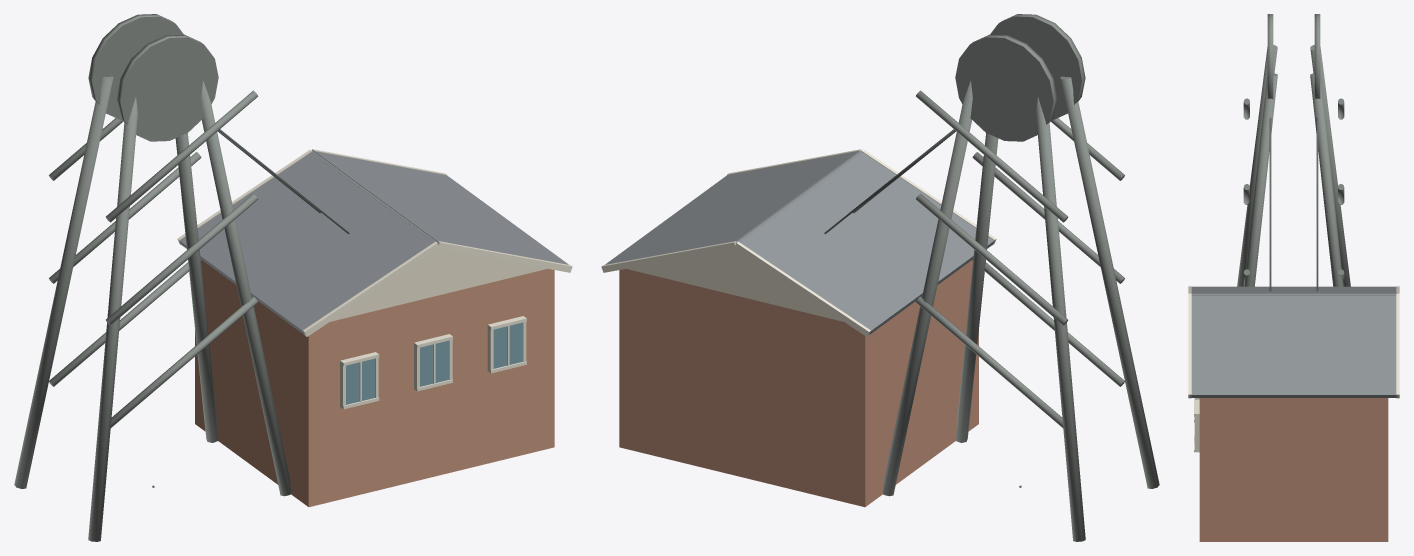
File: rhine-mine_lod0.glb
The picture shows the model from 3 angles, left to right: view 1: azimuth 30°, elevation 25°; view 2: azimuth 150°, elevation 25°; view 3: azimuth 270°, elevation 25°; orthographic projection. The views are drawn at different scales.
Visible parts, largest first — view 1: RF_WindingHouse, RF_Roof.001, RF_Roof, RF_WindingWheel.001, RF_HeadframeLeg.001, RF_HeadframeLeg.002, RF_Gable, RF_HeadframeLeg.003, RF_HeadframeLeg, RF_WindingWheel, RF_HeadframeBrace.005, RF_HeadframeBrace.003 (+8 smaller); view 2: RF_WindingHouse, RF_Roof.001, RF_Roof, RF_WindingWheel, RF_HeadframeLeg.002, RF_HeadframeLeg.001, RF_Gable.001, RF_HeadframeLeg, RF_HeadframeLeg.003, RF_WindingWheel.001, RF_HeadframeBrace, RF_HeadframeBrace.004 (+5 smaller); view 3: RF_WindingHouse, RF_Roof, RF_HeadframeLeg.003, RF_HeadframeLeg, RF_Roof.001, RF_HeadframeLeg.001, RF_HeadframeLeg.002, RF_WindingWheel.001, RF_WindingWheel, RF_WindingCable.001, RF_WindingCable, RF_Vergeband.003 (+2 smaller).
Part boxes in pixels (x1,y1,x2,y2): RF_WindingHouse: (195, 259, 554, 507); RF_Roof.001: (179, 151, 435, 334); RF_Roof: (314, 151, 568, 264); RF_WindingWheel.001: (117, 34, 218, 141); RF_HeadframeLeg.001: (88, 97, 137, 541); RF_HeadframeLeg.002: (14, 76, 113, 488); RF_Gable: (330, 249, 547, 321); RF_HeadframeLeg.003: (201, 81, 291, 496); RF_HeadframeLeg: (175, 133, 217, 442); RF_WindingWheel: (88, 14, 183, 120); RF_HeadframeBrace.005: (106, 90, 257, 222); RF_HeadframeBrace.003: (106, 193, 257, 325); RF_WindingHouse: (619, 259, 978, 507); RF_Roof.001: (738, 151, 994, 334); RF_Roof: (605, 151, 859, 264); RF_WindingWheel: (955, 34, 1056, 141); RF_HeadframeLeg.002: (1036, 97, 1085, 541); RF_HeadframeLeg.001: (1060, 76, 1159, 488); RF_Gable.001: (626, 249, 843, 321); RF_HeadframeLeg: (882, 81, 972, 496); RF_HeadframeLeg.003: (956, 133, 998, 442); RF_WindingWheel.001: (990, 14, 1085, 120); RF_HeadframeBrace: (916, 90, 1067, 222); RF_HeadframeBrace.004: (916, 193, 1067, 325); RF_WindingHouse: (1199, 398, 1388, 541); RF_Roof: (1190, 294, 1397, 397); RF_HeadframeLeg.003: (1244, 73, 1277, 286); RF_HeadframeLeg: (1310, 73, 1343, 286); RF_Roof.001: (1191, 286, 1397, 293); RF_HeadframeLeg.001: (1237, 45, 1277, 286); RF_HeadframeLeg.002: (1310, 45, 1350, 286); RF_WindingWheel.001: (1267, 14, 1273, 98); RF_WindingWheel: (1314, 14, 1320, 98); RF_WindingCable.001: (1269, 117, 1271, 291); RF_WindingCable: (1316, 117, 1318, 291); RF_Vergeband.003: (1188, 294, 1191, 398).
Bounding box in the file's own units: 18.56 × 18.04 × 8.98.
